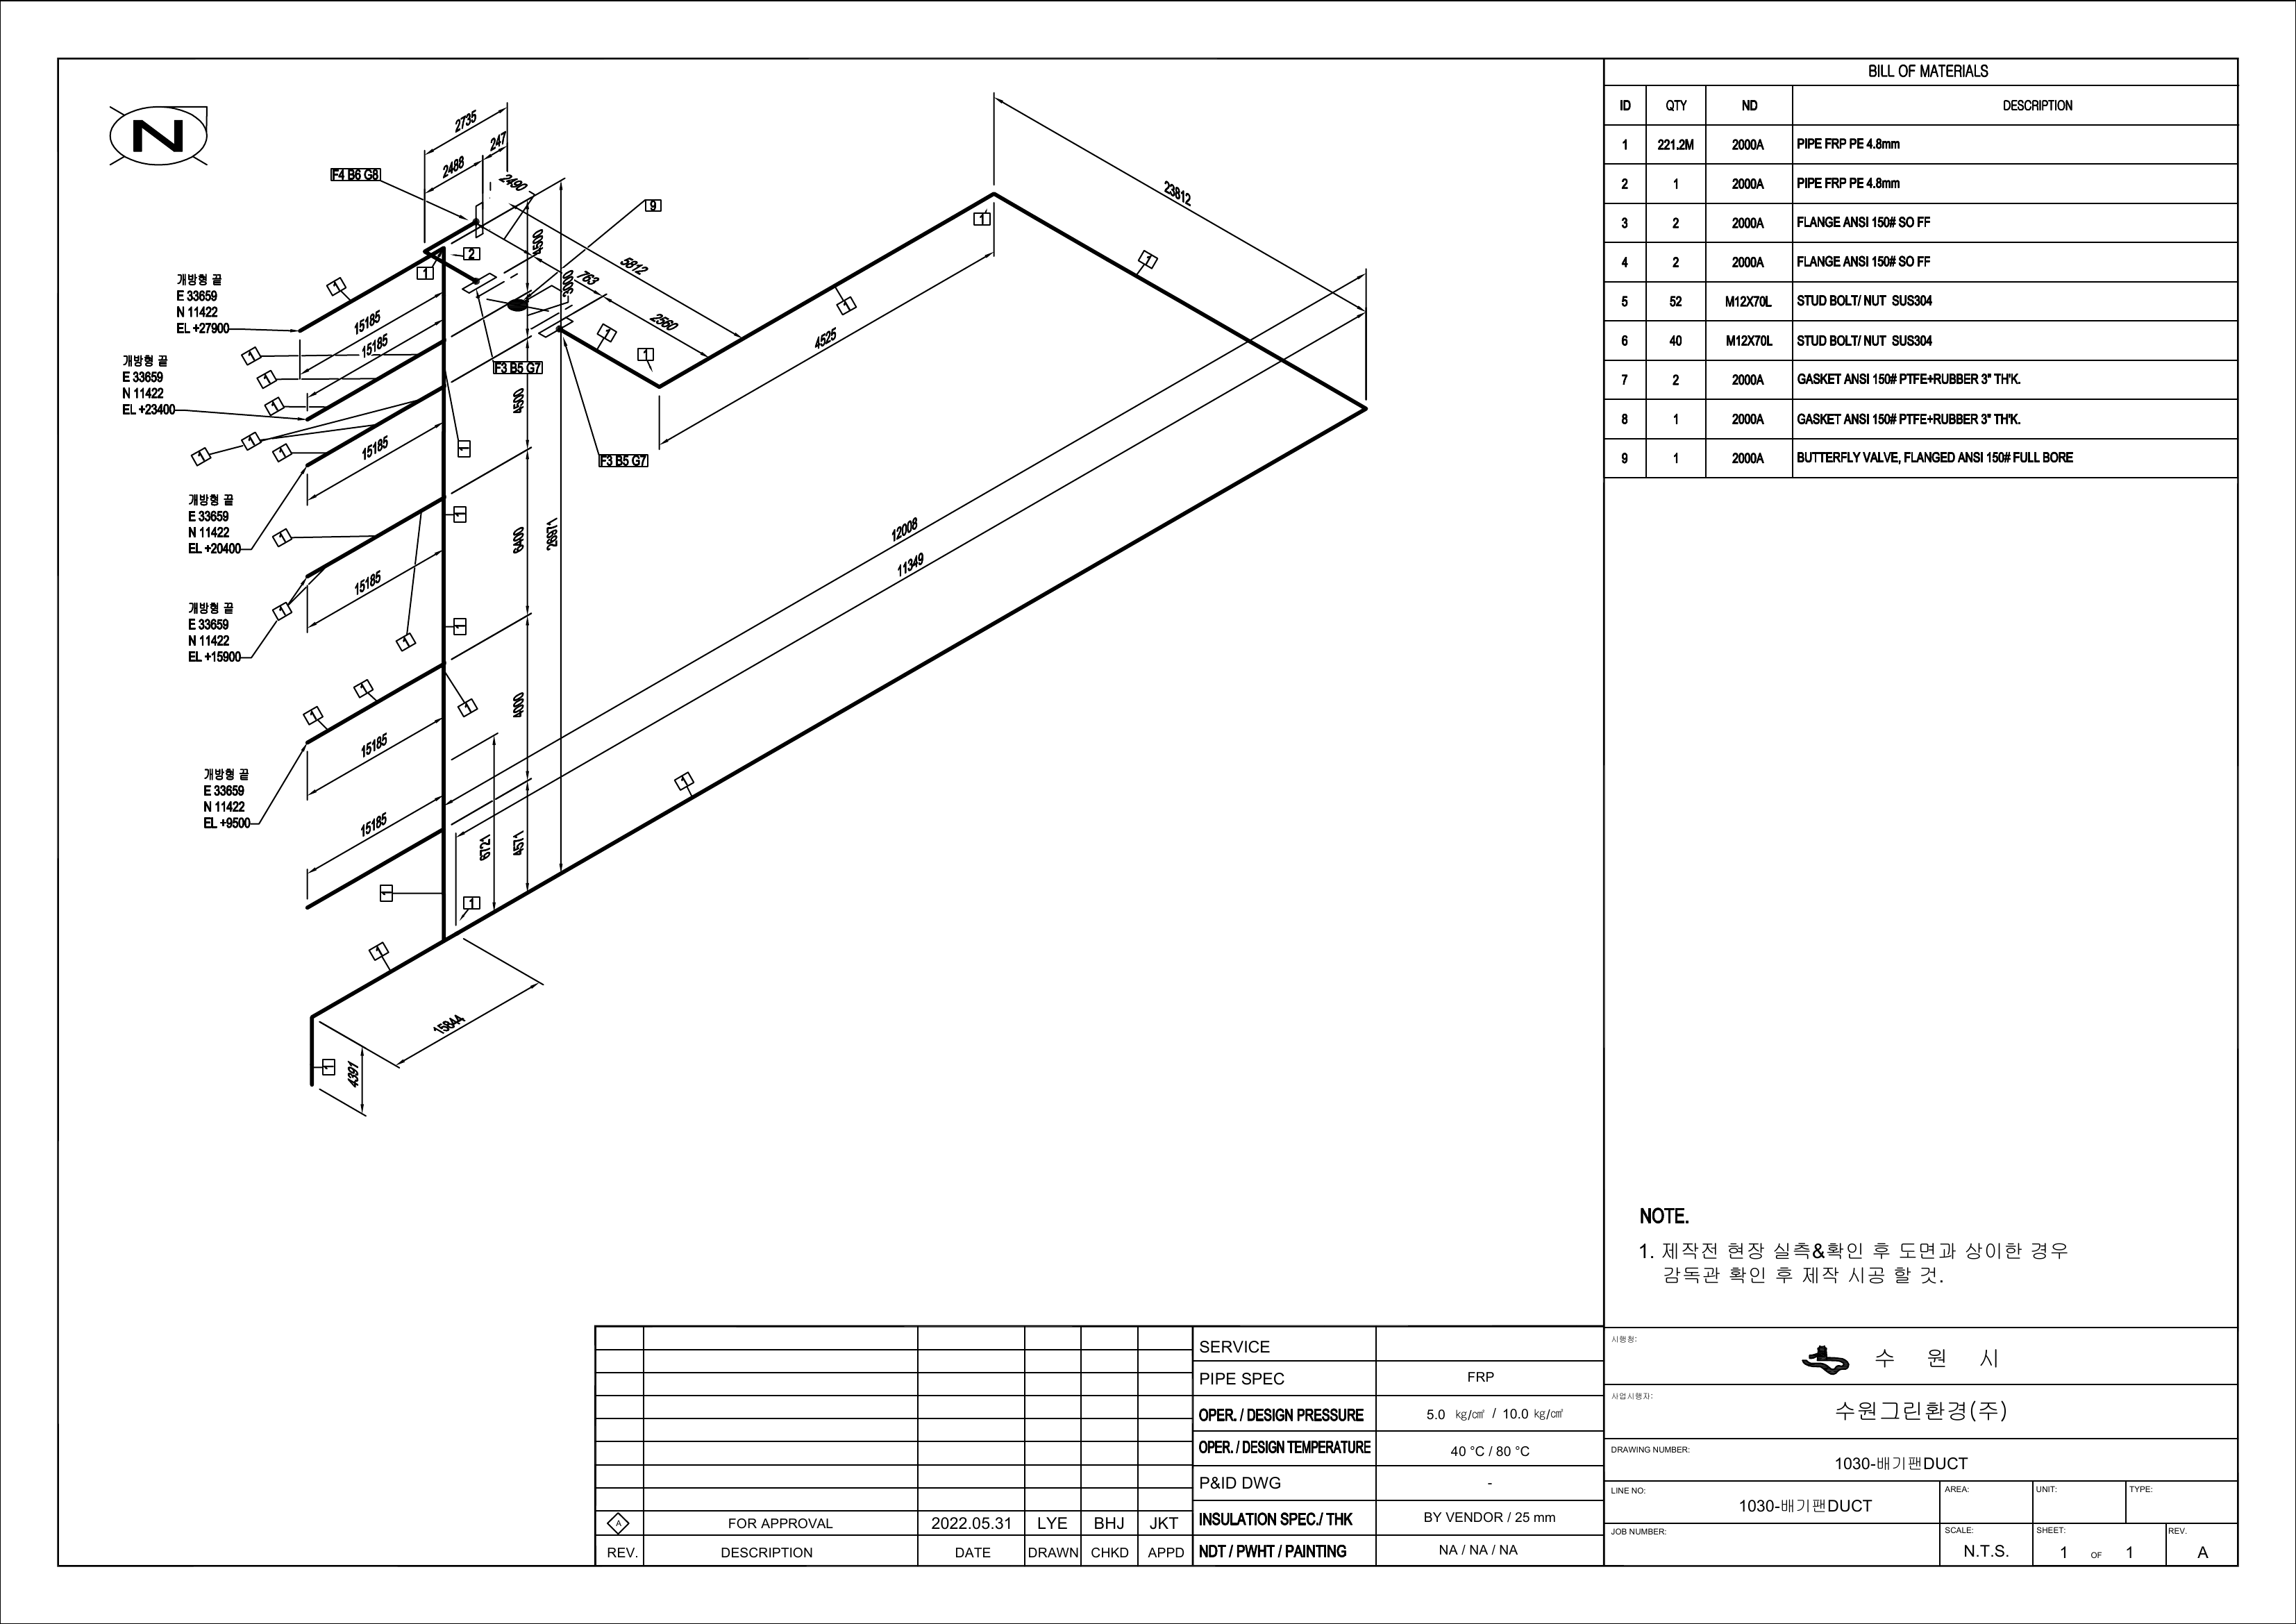table: (1599, 51, 2245, 485)
